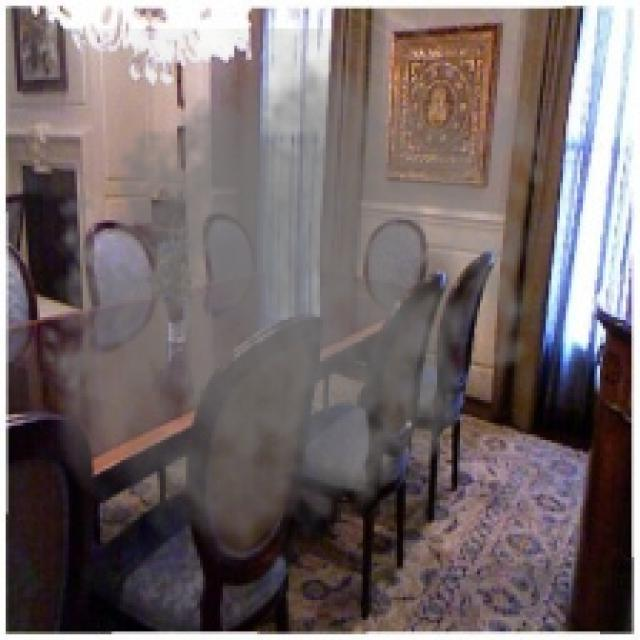Smoke: (31, 28, 563, 583)
